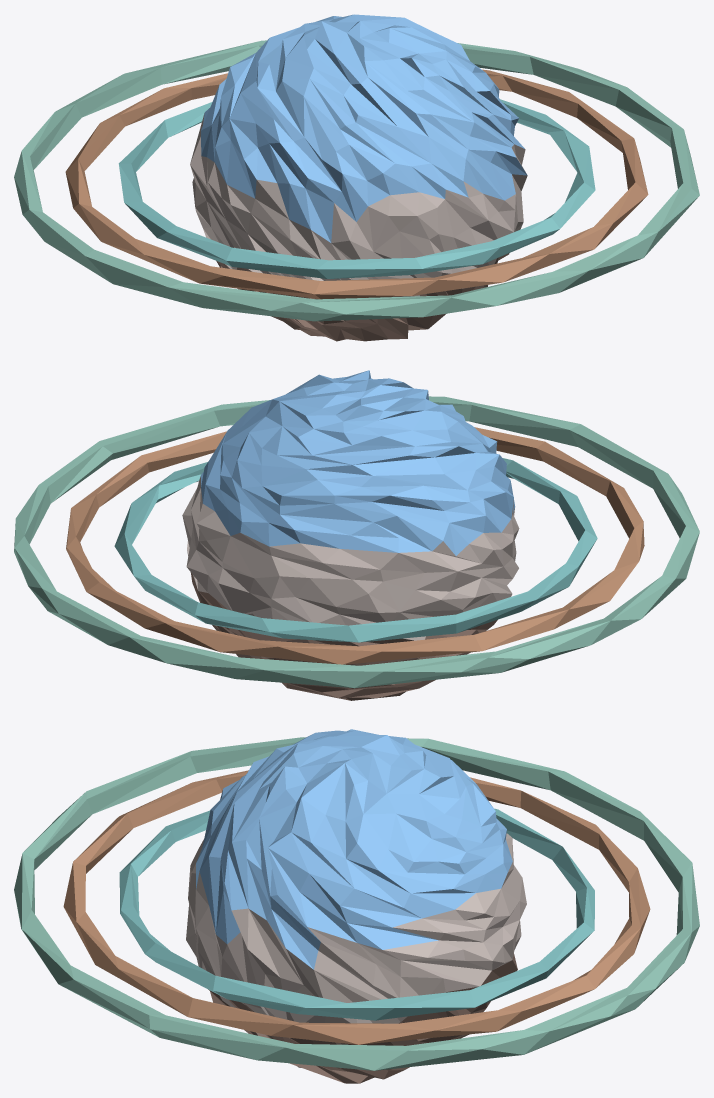
Rendered from Saturne.glb.
The picture shows the model from 3 angles, top to bottom: view 1: azimuth 30°, elevation 25°; view 2: azimuth 150°, elevation 25°; view 3: azimuth 270°, elevation 25°; orthographic projection. The views are drawn at different scales.
Parts seen in each view (by area): view 1: Saturn; view 2: Saturn; view 3: Saturn.
Part boxes in pixels (x1,y1,x2,y2): Saturn: (14, 14, 699, 341); Saturn: (14, 370, 699, 700); Saturn: (14, 729, 699, 1083).
Size of the model in its own units: 210 by 102 by 199.
1 material, 1 textured.
